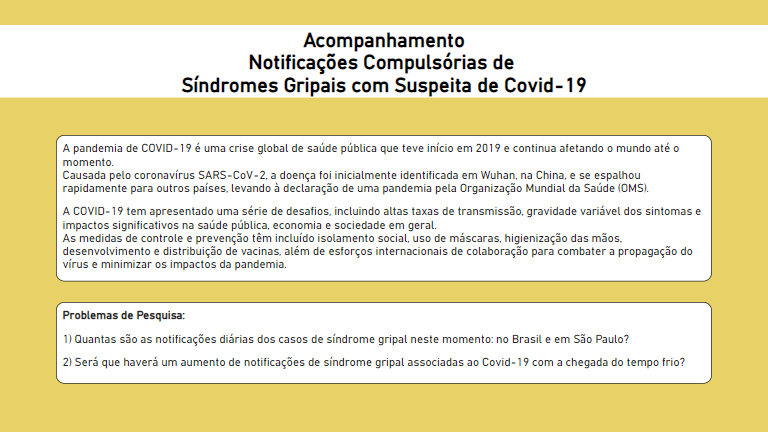

The page's visual inventory and layout, read from the dashboard file:
{"tool":"powerbi","page":{"name":"Apresentação","canvas":[1280,720],"ordinal":0},"visuals":[{"type":"shape","box":[0,41.8,1280,157.4],"z":1500},{"type":"textbox","box":[0,41.8,1280,157.4],"z":2000}]}

Visuals, with their boxes in screenshot pixels (x1, y1, x2, y2), scaled from the page's 1280x720 canvas onto the 768x432 screenshot:
shape: bbox=(0, 25, 767, 120)
textbox: bbox=(0, 25, 767, 120)
